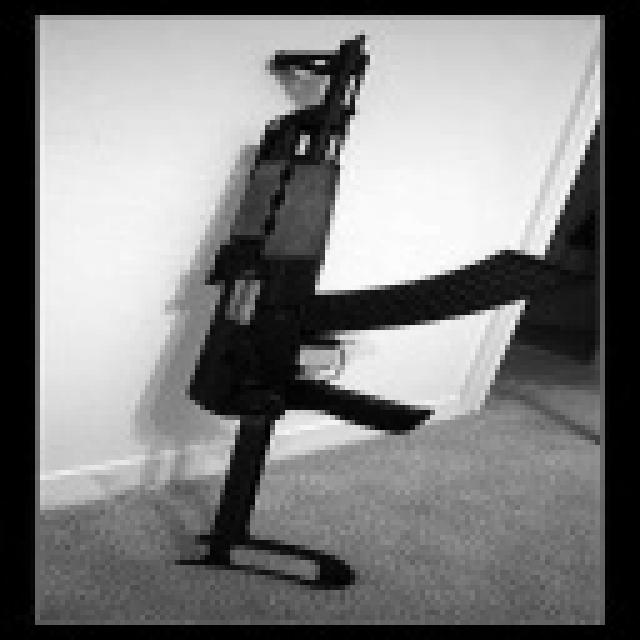Rifle: (160, 0, 570, 590)
